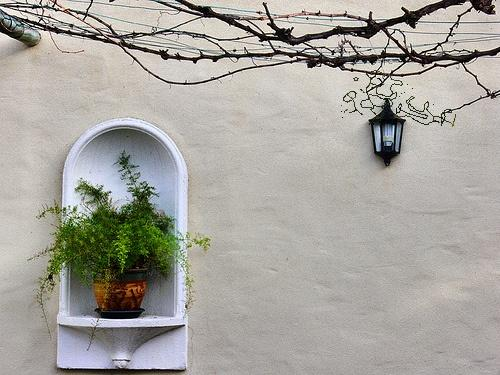tampered: (342, 71, 456, 127)
